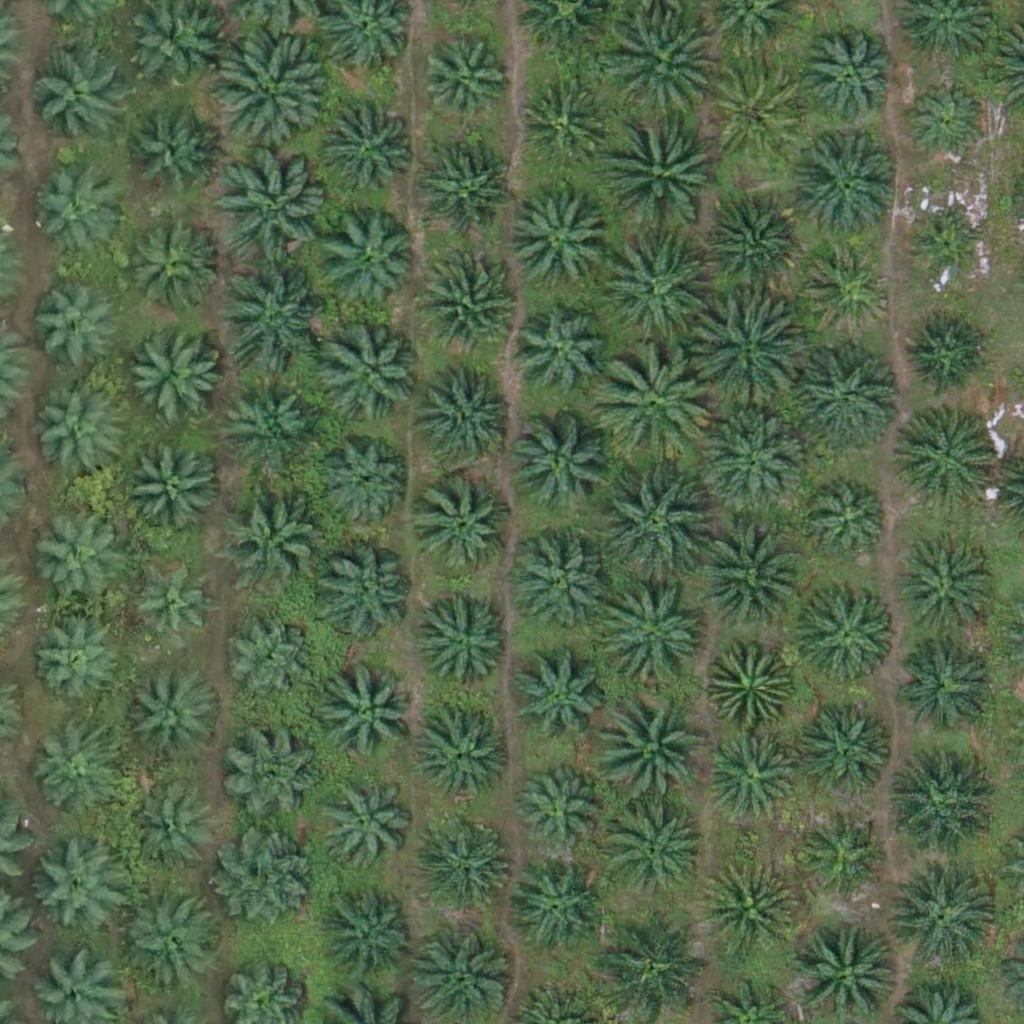Kelapa_Sawit: (595, 234, 708, 348), (604, 6, 717, 120), (600, 906, 713, 1019), (600, 581, 713, 694), (599, 465, 712, 578), (212, 34, 325, 147), (700, 402, 812, 516), (606, 109, 718, 223), (213, 261, 325, 374), (599, 795, 711, 908), (594, 685, 706, 798), (597, 348, 709, 461), (687, 296, 799, 409), (692, 517, 804, 630), (790, 337, 902, 450), (881, 748, 993, 861), (882, 862, 994, 975), (789, 127, 901, 240), (219, 150, 331, 263), (27, 506, 127, 607), (121, 889, 221, 990), (122, 440, 222, 541), (124, 321, 224, 422), (120, 212, 220, 313), (219, 373, 319, 474), (222, 484, 322, 585), (221, 722, 321, 823), (219, 826, 319, 927), (316, 207, 416, 308), (322, 661, 422, 762), (315, 776, 415, 877), (319, 885, 419, 986), (412, 704, 512, 805), (414, 475, 514, 576), (415, 251, 515, 352), (512, 302, 612, 403), (510, 412, 610, 513), (505, 648, 605, 749), (508, 860, 608, 961), (698, 859, 798, 960), (797, 703, 897, 804), (796, 579, 896, 680), (898, 543, 998, 644), (896, 634, 996, 735), (798, 26, 898, 127), (417, 139, 517, 240), (314, 98, 414, 199), (26, 46, 126, 147), (28, 832, 128, 932), (321, 326, 421, 426), (312, 543, 412, 643), (420, 815, 520, 915), (415, 591, 515, 691), (422, 362, 522, 462), (506, 193, 606, 293), (509, 530, 609, 630), (702, 197, 802, 297), (895, 405, 995, 505), (707, 63, 807, 163), (32, 282, 120, 370), (32, 389, 120, 477), (29, 622, 117, 710), (131, 666, 219, 754), (226, 616, 314, 704), (709, 729, 797, 817), (803, 804, 891, 892), (901, 80, 989, 168), (517, 78, 605, 166), (419, 40, 507, 128), (127, 107, 215, 195), (125, 559, 212, 648), (804, 245, 891, 333), (28, 729, 115, 817), (126, 787, 213, 875), (321, 437, 408, 525), (515, 762, 602, 850), (707, 637, 794, 725), (808, 479, 895, 567), (903, 309, 990, 397), (25, 171, 112, 259), (913, 215, 988, 290)
